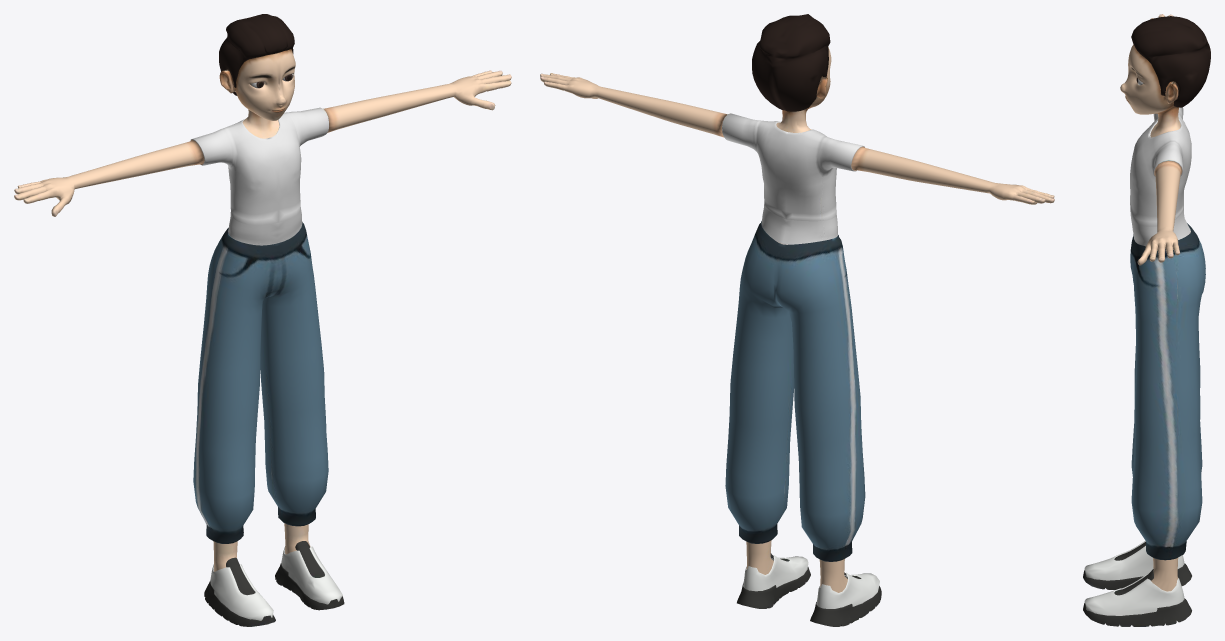
The model's file is basecharactertext.fbx.
The picture shows the model from 3 angles, left to right: view 1: azimuth 30°, elevation 25°; view 2: azimuth 150°, elevation 25°; view 3: azimuth 270°, elevation 25°; orthographic projection. The views are drawn at different scales.
Parts seen in each view (by area): view 1: Ch03; view 2: Ch03; view 3: Ch03.
Part boxes in pixels (x1,y1,x2,y2): Ch03: (14, 14, 511, 626); Ch03: (540, 14, 1054, 626); Ch03: (1083, 14, 1210, 626).
Bounding box in the file's own units: 146 × 160 × 32.09.
